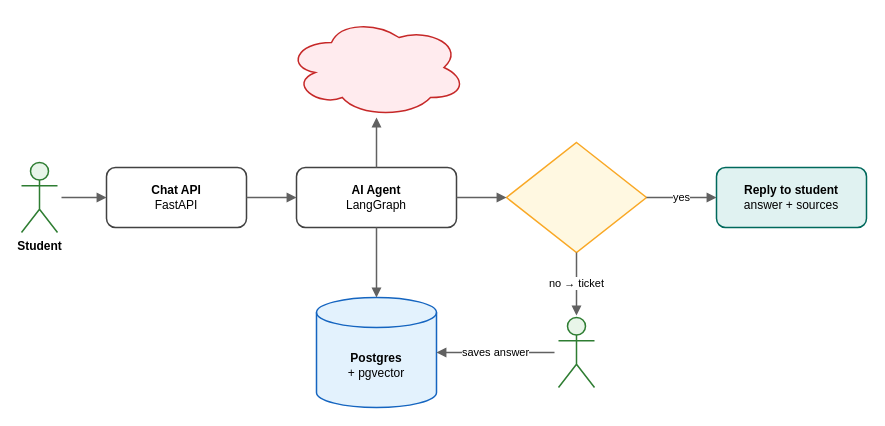
This 885x426 diagram has some shape labels left out. Here are the shapes that lost their labels. From the top down, the box of each, then its label:
(285, 16, 467, 118): LLM APIs Groq + Cohere
(505, 141, 647, 253): Answer passes the checks?
(557, 316, 595, 388): Advisor (human)
